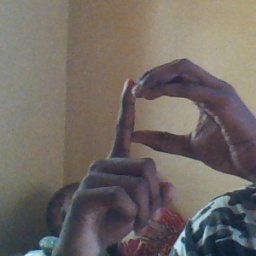P: (71, 53, 213, 202)
